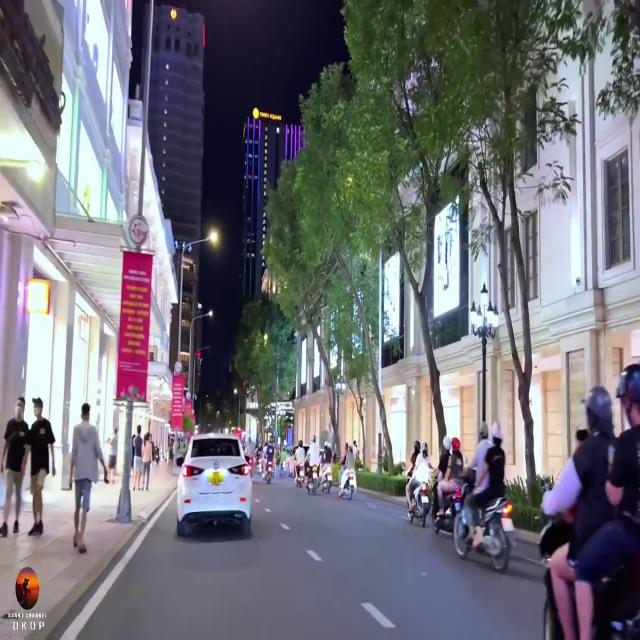bien_vang: (210, 471, 223, 484)
